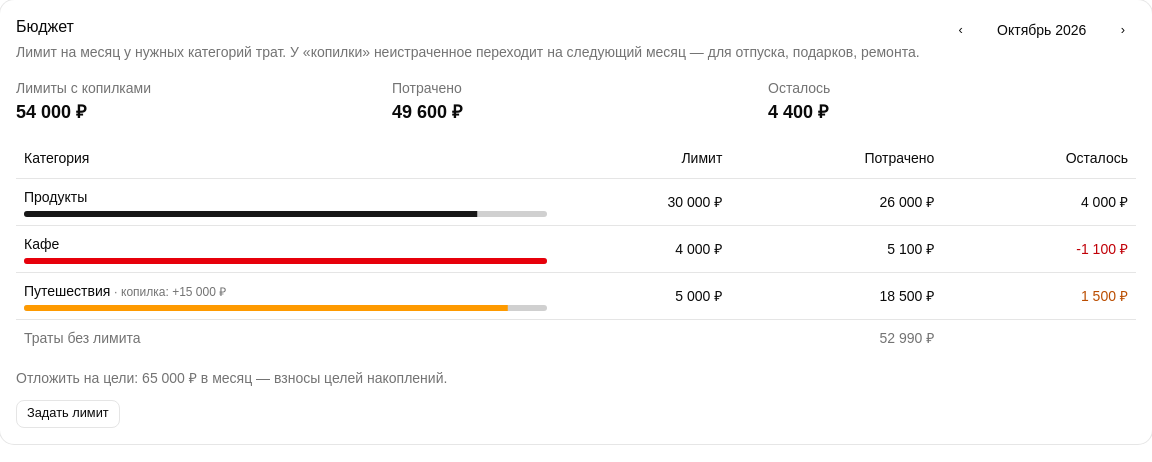
BudgetCard › puts the savings goals' contributions aside from this month on
Click the button named "Предыдущий месяц" at (961, 30), box [948,16,974,44]
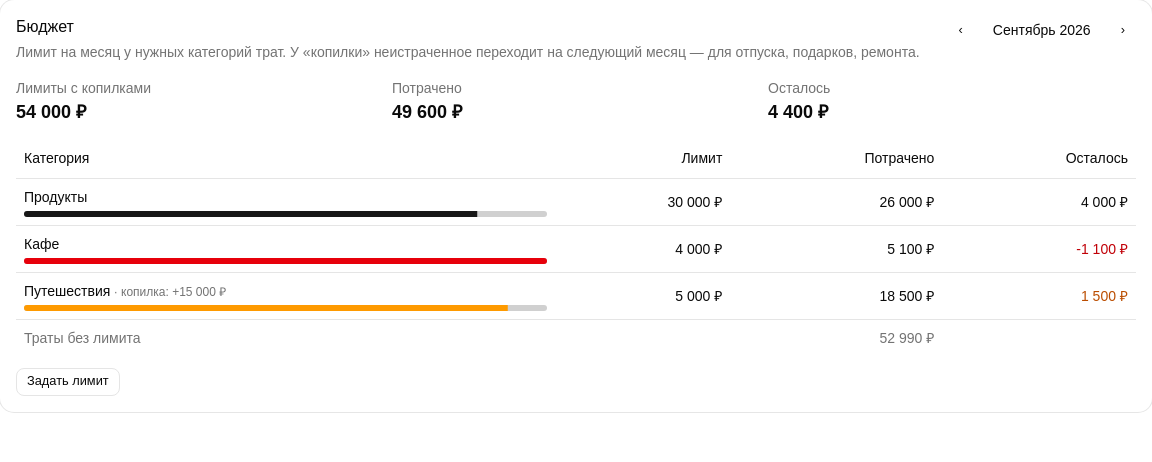
Expected: the text with test id "budget-goals" is gone
